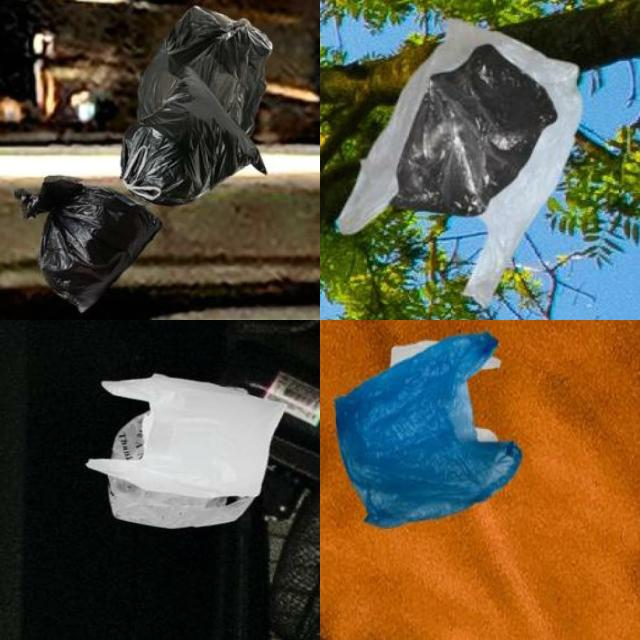Single-layer Plastic: (336, 20, 581, 306), (335, 332, 521, 527), (391, 44, 558, 216), (88, 375, 285, 498), (15, 176, 161, 312), (121, 68, 265, 204), (141, 6, 272, 133)
